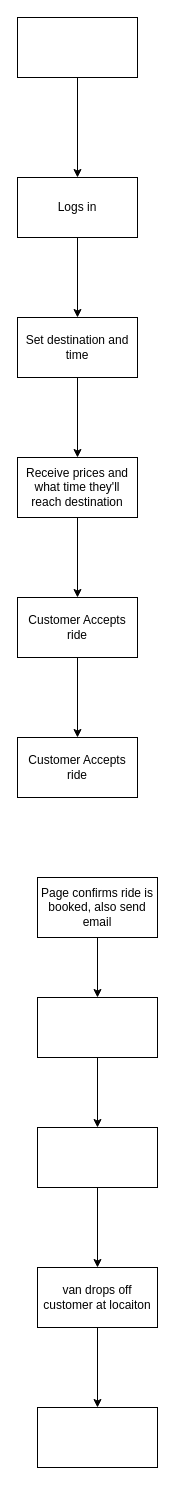
Some shapes in this 175 by 1485 pixel diagram are drawn without their labels. Each missing label, with the centre of its shape:
"customer gets in van" belongs at point 97,1157.
"Customer Makes account" belongs at point 77,47.
"customer receives email receipt and option to rate driver" belongs at point 97,1437.
"Van comes to pick up location" belongs at point 97,1027.
